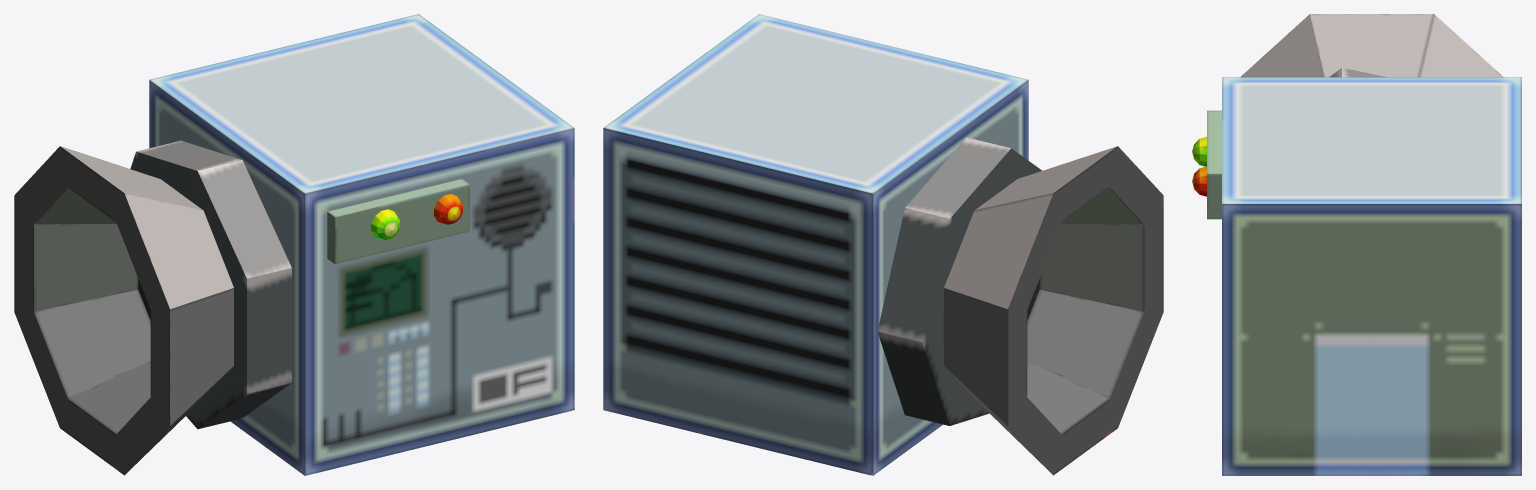
The model's file is Pump.fbx.
The picture shows the model from 3 angles, left to right: view 1: azimuth 30°, elevation 25°; view 2: azimuth 150°, elevation 25°; view 3: azimuth 270°, elevation 25°; orthographic projection. The views are drawn at different scales.
Parts seen in each view (by area): view 1: cuboid, cone, cylinder, cuboid_1, sphere_1, sphere; view 2: cuboid, cone, cylinder; view 3: cuboid, cone, cuboid_1, sphere_1, sphere.
Part boxes in pixels (x1,y1,x2,y2): cuboid: (149,14,574,475); cone: (14,146,233,475); cylinder: (130,140,291,429); cuboid_1: (327,179,469,264); sphere_1: (371,209,400,239); sphere: (434,194,462,224); cuboid: (603,14,1028,475); cone: (944,146,1163,475); cylinder: (877,137,1041,425); cuboid: (1222,77,1521,475); cone: (1240,14,1503,77); cuboid_1: (1207,110,1224,219); sphere_1: (1192,136,1206,166); sphere: (1192,166,1206,196).
Size of the model in its own units: 150 by 100 by 110.
1 material, 1 textured.
